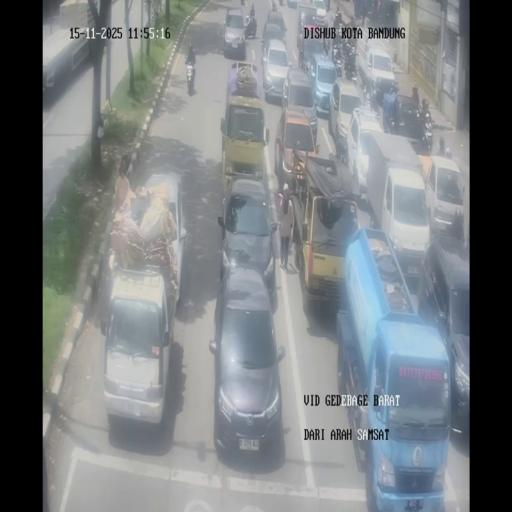car: (209, 268, 285, 464), (101, 265, 175, 430), (217, 176, 279, 300), (139, 172, 188, 306), (274, 103, 318, 196), (424, 155, 464, 236), (331, 80, 365, 159), (389, 92, 432, 152), (306, 52, 337, 118), (260, 39, 291, 101), (223, 6, 247, 57), (297, 12, 323, 54), (262, 10, 286, 42), (310, 0, 328, 23)
motorcycle: (184, 55, 196, 94), (344, 43, 356, 80), (332, 41, 344, 77), (362, 74, 374, 108), (299, 45, 310, 74), (245, 12, 257, 38), (333, 18, 344, 46), (368, 0, 382, 21), (382, 101, 391, 133), (322, 32, 330, 56), (347, 15, 356, 35), (412, 84, 420, 106), (271, 0, 278, 11), (279, 0, 284, 7)
truck: (338, 231, 449, 506), (290, 161, 364, 317), (362, 135, 428, 269), (219, 81, 267, 196), (41, 27, 93, 101)
